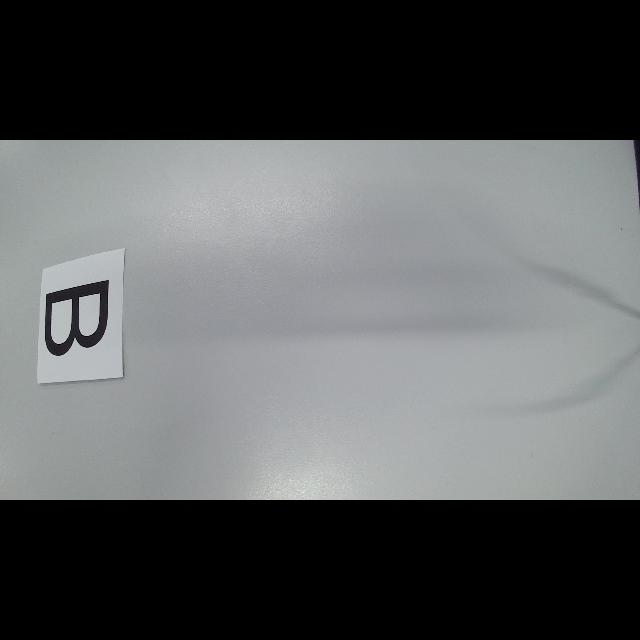FAKE: (44, 280, 110, 358)
